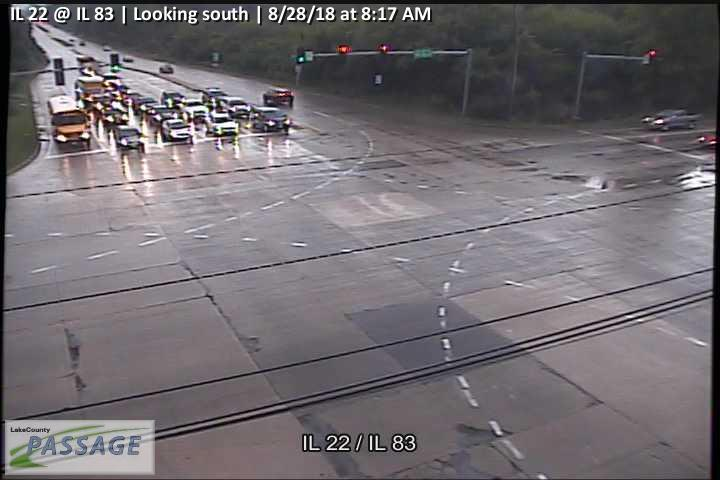Bus: (47, 95, 91, 145)
SUV: (252, 106, 291, 132), (161, 119, 192, 141), (220, 96, 251, 117), (261, 87, 295, 106), (179, 98, 209, 119), (147, 105, 176, 125)
Sedan: (205, 112, 238, 136), (115, 126, 145, 147)
Truck: (642, 108, 703, 131)
